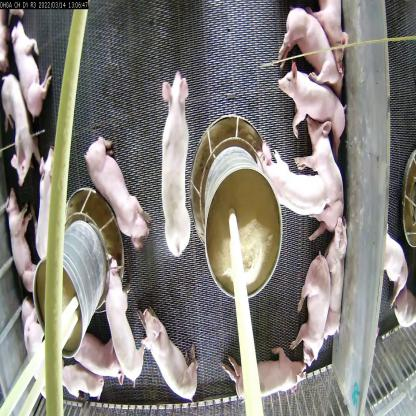Pig: (77, 120, 147, 248), (158, 74, 194, 253), (280, 61, 344, 155), (274, 0, 340, 90), (138, 306, 195, 400), (257, 138, 319, 218), (30, 148, 66, 271), (233, 346, 308, 402), (104, 263, 141, 372), (304, 120, 348, 210), (9, 24, 49, 122), (321, 213, 350, 339), (0, 59, 28, 181), (298, 256, 328, 368), (4, 180, 34, 271), (21, 286, 48, 379), (71, 327, 113, 380)
